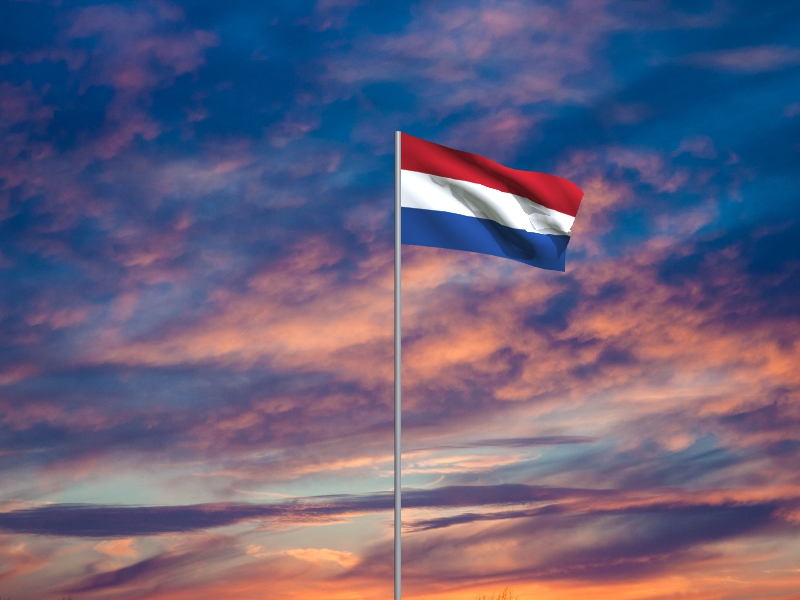nl: (401, 133, 586, 273)
